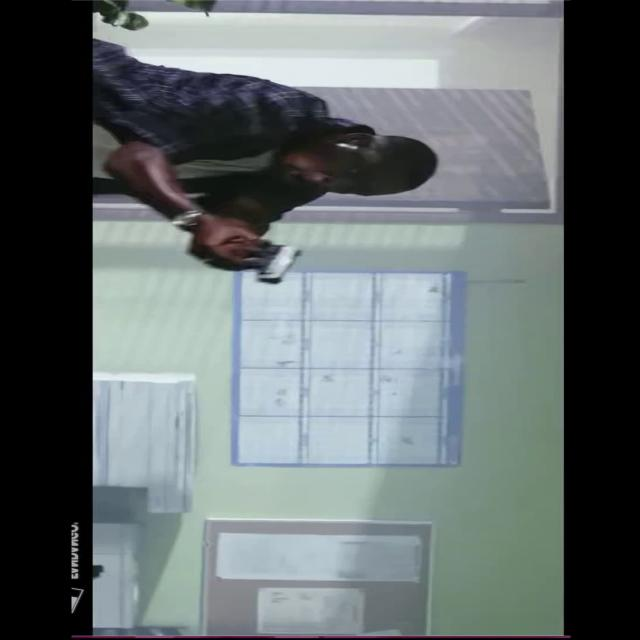weapons: (206, 238, 310, 288)
